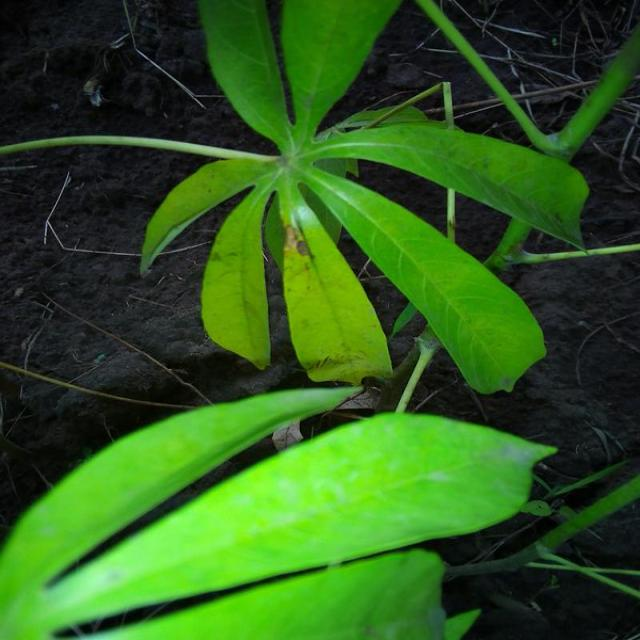cassava leaf: (6, 404, 558, 637), (298, 166, 548, 395), (310, 113, 591, 254), (62, 545, 482, 638)
